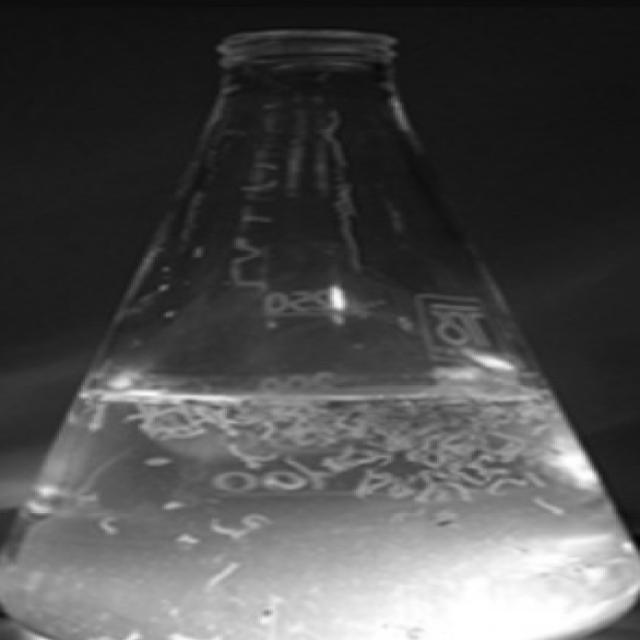larvas: (283, 458, 333, 490), (202, 409, 240, 436), (203, 563, 241, 589), (334, 458, 394, 473), (260, 471, 306, 490), (230, 444, 278, 462), (215, 471, 254, 492), (122, 409, 184, 422), (211, 517, 245, 540), (482, 442, 521, 462), (424, 473, 449, 504), (489, 444, 524, 464), (530, 411, 559, 435), (364, 471, 392, 495), (487, 478, 525, 495), (491, 431, 534, 446), (390, 507, 424, 525), (88, 403, 109, 432), (322, 445, 350, 466), (364, 448, 394, 467), (418, 482, 446, 502), (588, 555, 631, 568), (135, 403, 153, 433), (353, 471, 373, 498), (484, 539, 529, 551), (450, 480, 474, 502), (418, 404, 458, 417), (418, 434, 445, 453), (452, 469, 486, 484), (79, 394, 102, 416), (157, 430, 207, 440), (390, 478, 414, 498), (443, 420, 475, 435), (371, 437, 413, 448), (99, 515, 123, 534), (258, 420, 276, 444), (432, 509, 457, 526), (337, 409, 358, 429), (537, 499, 564, 513), (139, 457, 176, 467), (416, 454, 444, 467), (290, 433, 318, 446), (281, 423, 306, 437), (406, 420, 449, 428), (324, 418, 341, 438), (528, 472, 548, 489), (186, 400, 221, 409), (79, 488, 103, 501), (527, 399, 545, 416), (244, 514, 269, 526), (471, 454, 494, 467), (536, 442, 560, 454), (484, 416, 502, 430), (517, 405, 529, 426), (164, 499, 184, 511), (482, 468, 512, 476), (356, 424, 374, 437), (246, 460, 264, 471), (242, 403, 256, 417)
